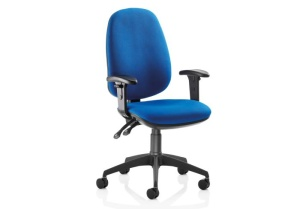chair: (96, 8, 211, 200)
